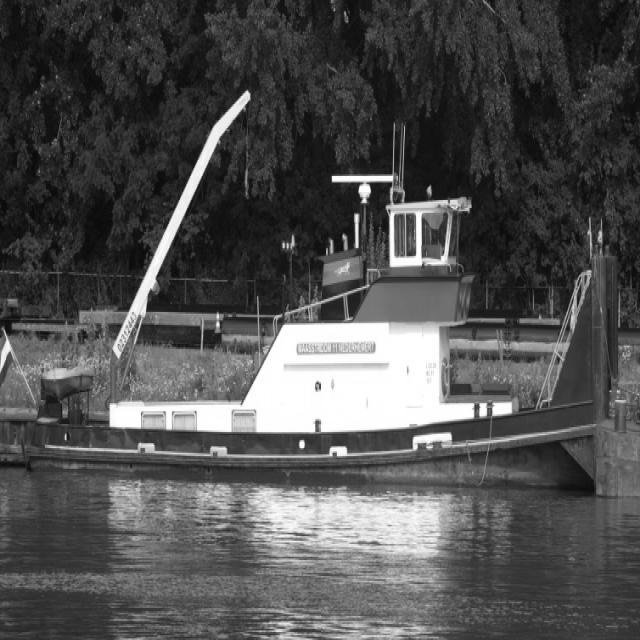tugboat: (36, 173, 624, 512)
